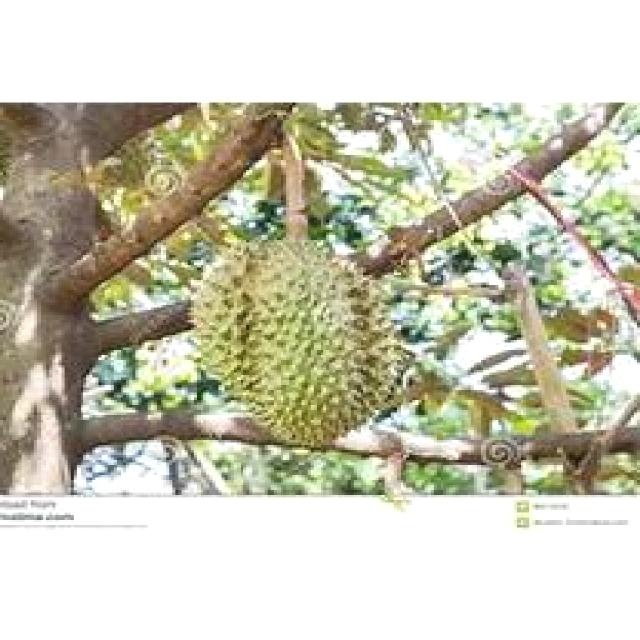agrume: (185, 225, 419, 453)
